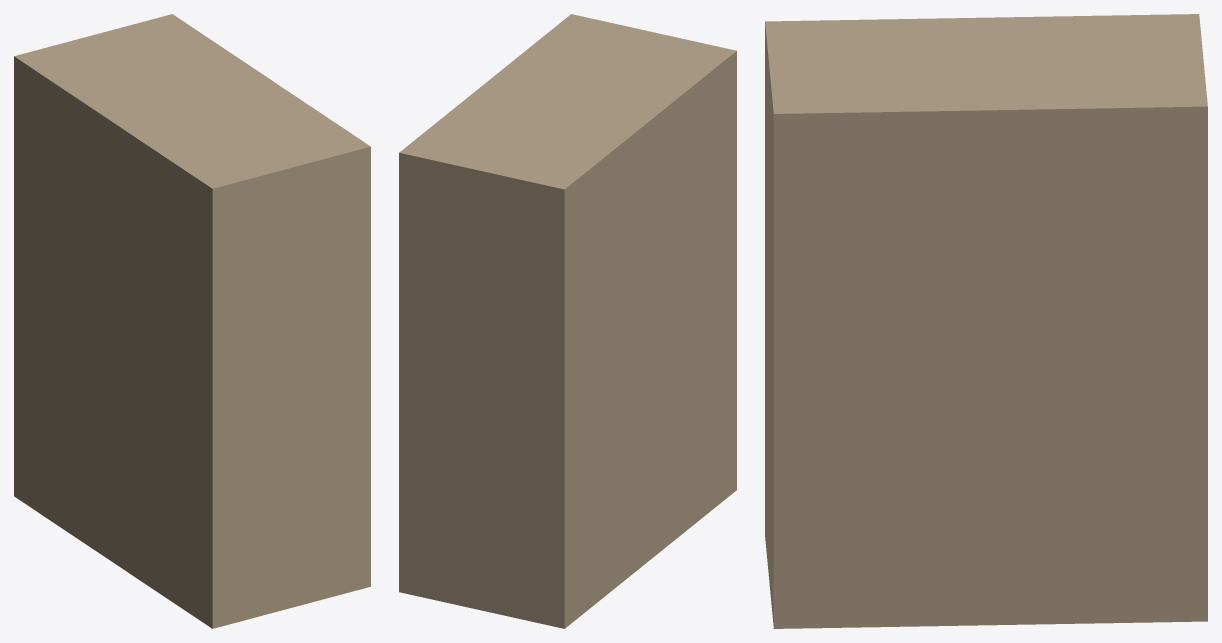
The model's file is bld_106466761.dae.
The picture shows the model from 3 angles, left to right: view 1: azimuth 30°, elevation 25°; view 2: azimuth 150°, elevation 25°; view 3: azimuth 270°, elevation 25°; orthographic projection. The views are drawn at different scales.
Parts seen in each view (by area): view 1: bld_106466761; view 2: bld_106466761; view 3: bld_106466761.
Part boxes in pixels (left/top/right/bottom): bld_106466761: left=14, top=14, right=370, bottom=628; bld_106466761: left=399, top=14, right=736, bottom=628; bld_106466761: left=765, top=14, right=1207, bottom=628.
Size of the model in its own units: 3.33 by 6.23 by 8.
